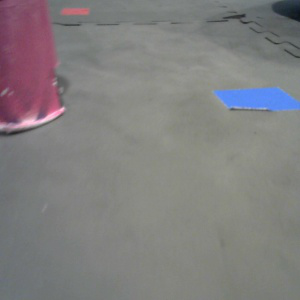middle: (1, 1, 66, 133)
